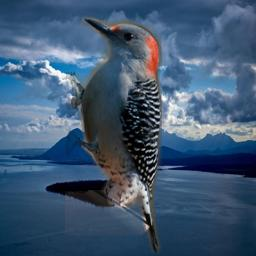Woodpecker: (65, 12, 162, 254)
